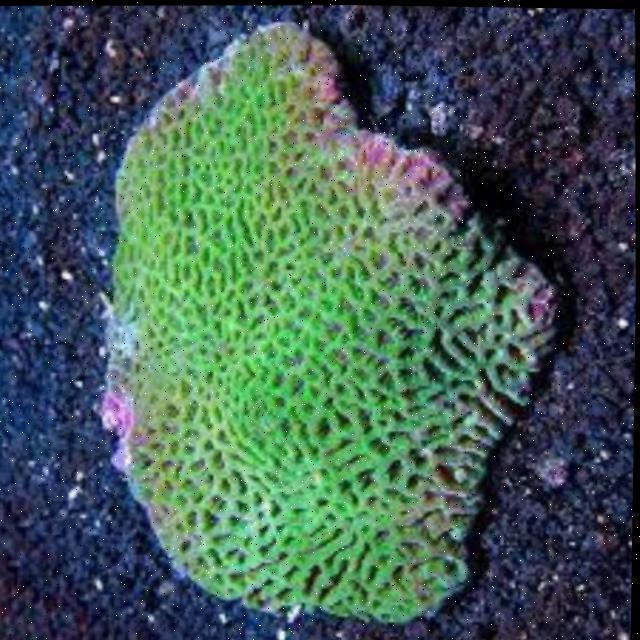Healthy Coral: (84, 46, 528, 626)
